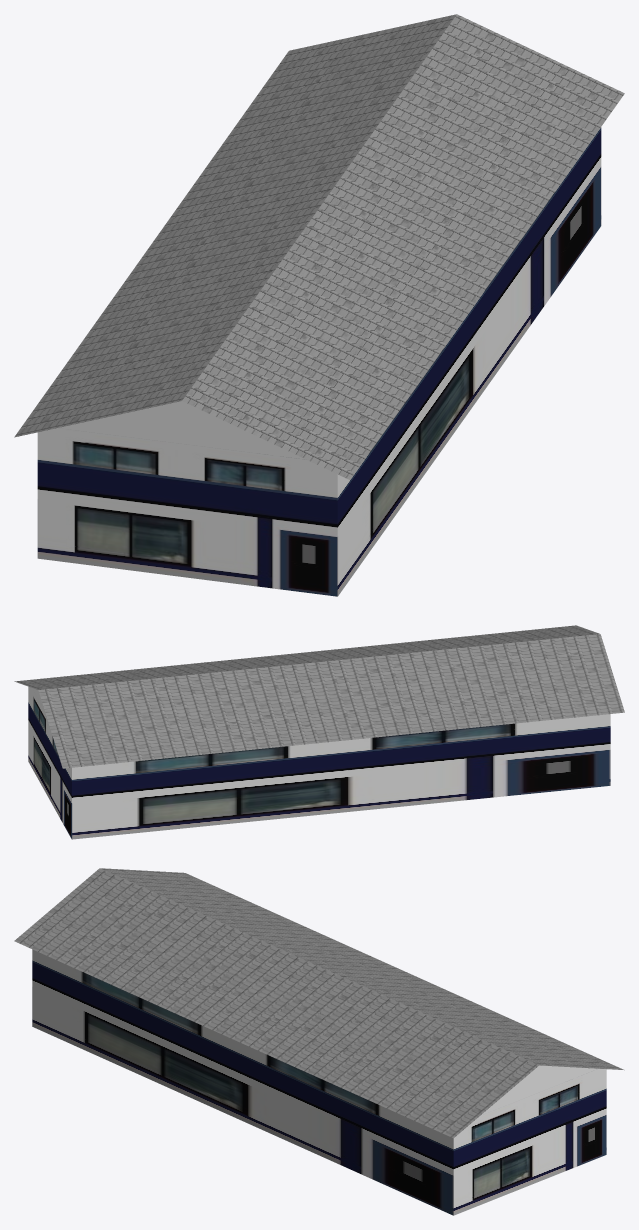
3 renders of one model, top to bottom at view 1: azimuth 30°, elevation 25°; view 2: azimuth 150°, elevation 25°; view 3: azimuth 270°, elevation 25°, orthographic. The views are drawn at different scales.
Visible parts, largest first — view 1: CityEngineMaterial_4_m, CityEngineMaterial_2_m, CityEngineMaterial_3_m; view 2: CityEngineMaterial_4_m, CityEngineMaterial_2_m; view 3: CityEngineMaterial_4_m, CityEngineMaterial_2_m, CityEngineMaterial_3_m.
Boxes of the visible parts, left/top/right/bottom form: CityEngineMaterial_4_m: left=14, top=14, right=624, bottom=479; CityEngineMaterial_2_m: left=37, top=127, right=601, bottom=596; CityEngineMaterial_3_m: left=58, top=401, right=305, bottom=459; CityEngineMaterial_4_m: left=14, top=625, right=624, bottom=768; CityEngineMaterial_2_m: left=28, top=686, right=610, bottom=839; CityEngineMaterial_4_m: left=14, top=868, right=624, bottom=1138; CityEngineMaterial_2_m: left=32, top=949, right=606, bottom=1215; CityEngineMaterial_3_m: left=480, top=1065, right=597, bottom=1115.
Bounding box in the file's own units: 46.9 × 10.22 × 45.62.
